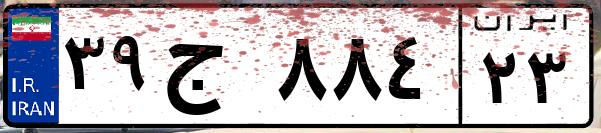2: (475, 38, 525, 113)
3: (57, 26, 110, 100), (525, 38, 570, 115)
4: (385, 28, 445, 110)
8: (270, 28, 330, 110), (330, 28, 385, 110)
9: (110, 28, 158, 98)
ج: (158, 20, 270, 120)
